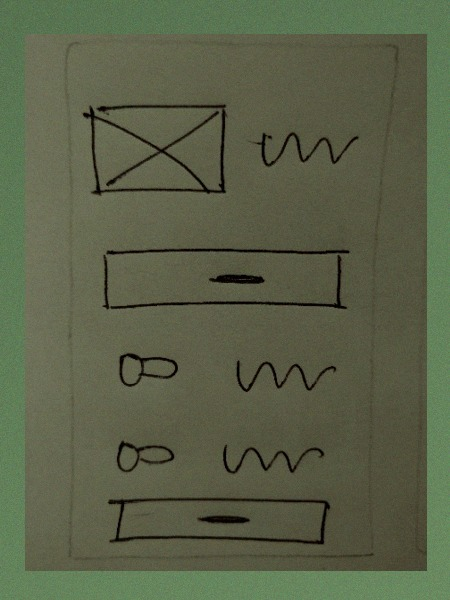button: (98, 241, 353, 320), (103, 492, 334, 548)
image: (79, 97, 239, 201)
switch: (106, 346, 197, 393), (106, 434, 185, 479)
text: (246, 123, 362, 173), (217, 433, 326, 485), (227, 354, 342, 401)
